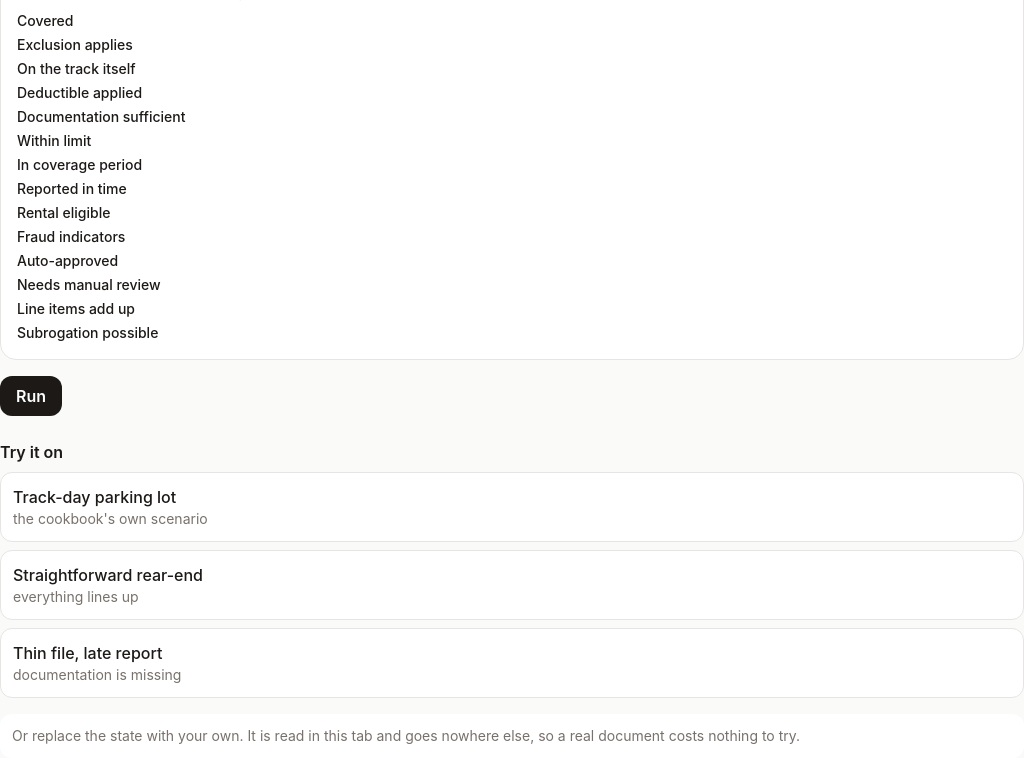
it: CookbookCard — Self-consistency: nouls › still shows a non-empty sentence when a decision rejects with no message
(page scrolled)
Click the button "Run": [31, 396] box [0, 376, 62, 416]
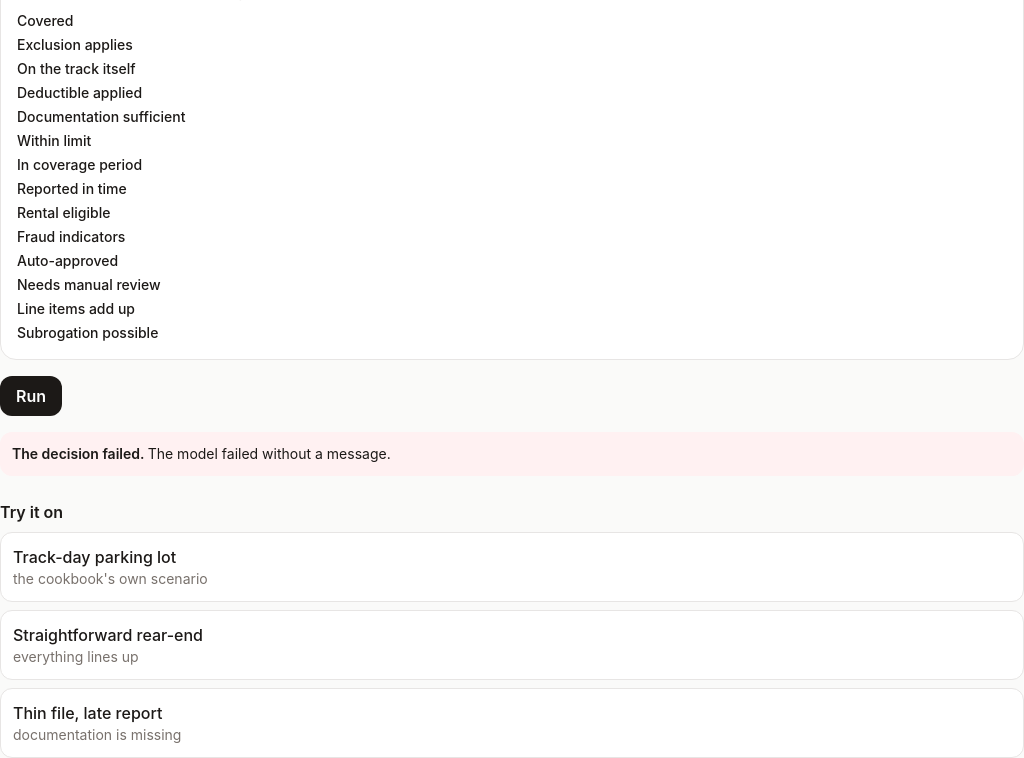
Expected: the text "The decision failed. The model failed without a message." is shown, [0, 432, 1023, 476]
